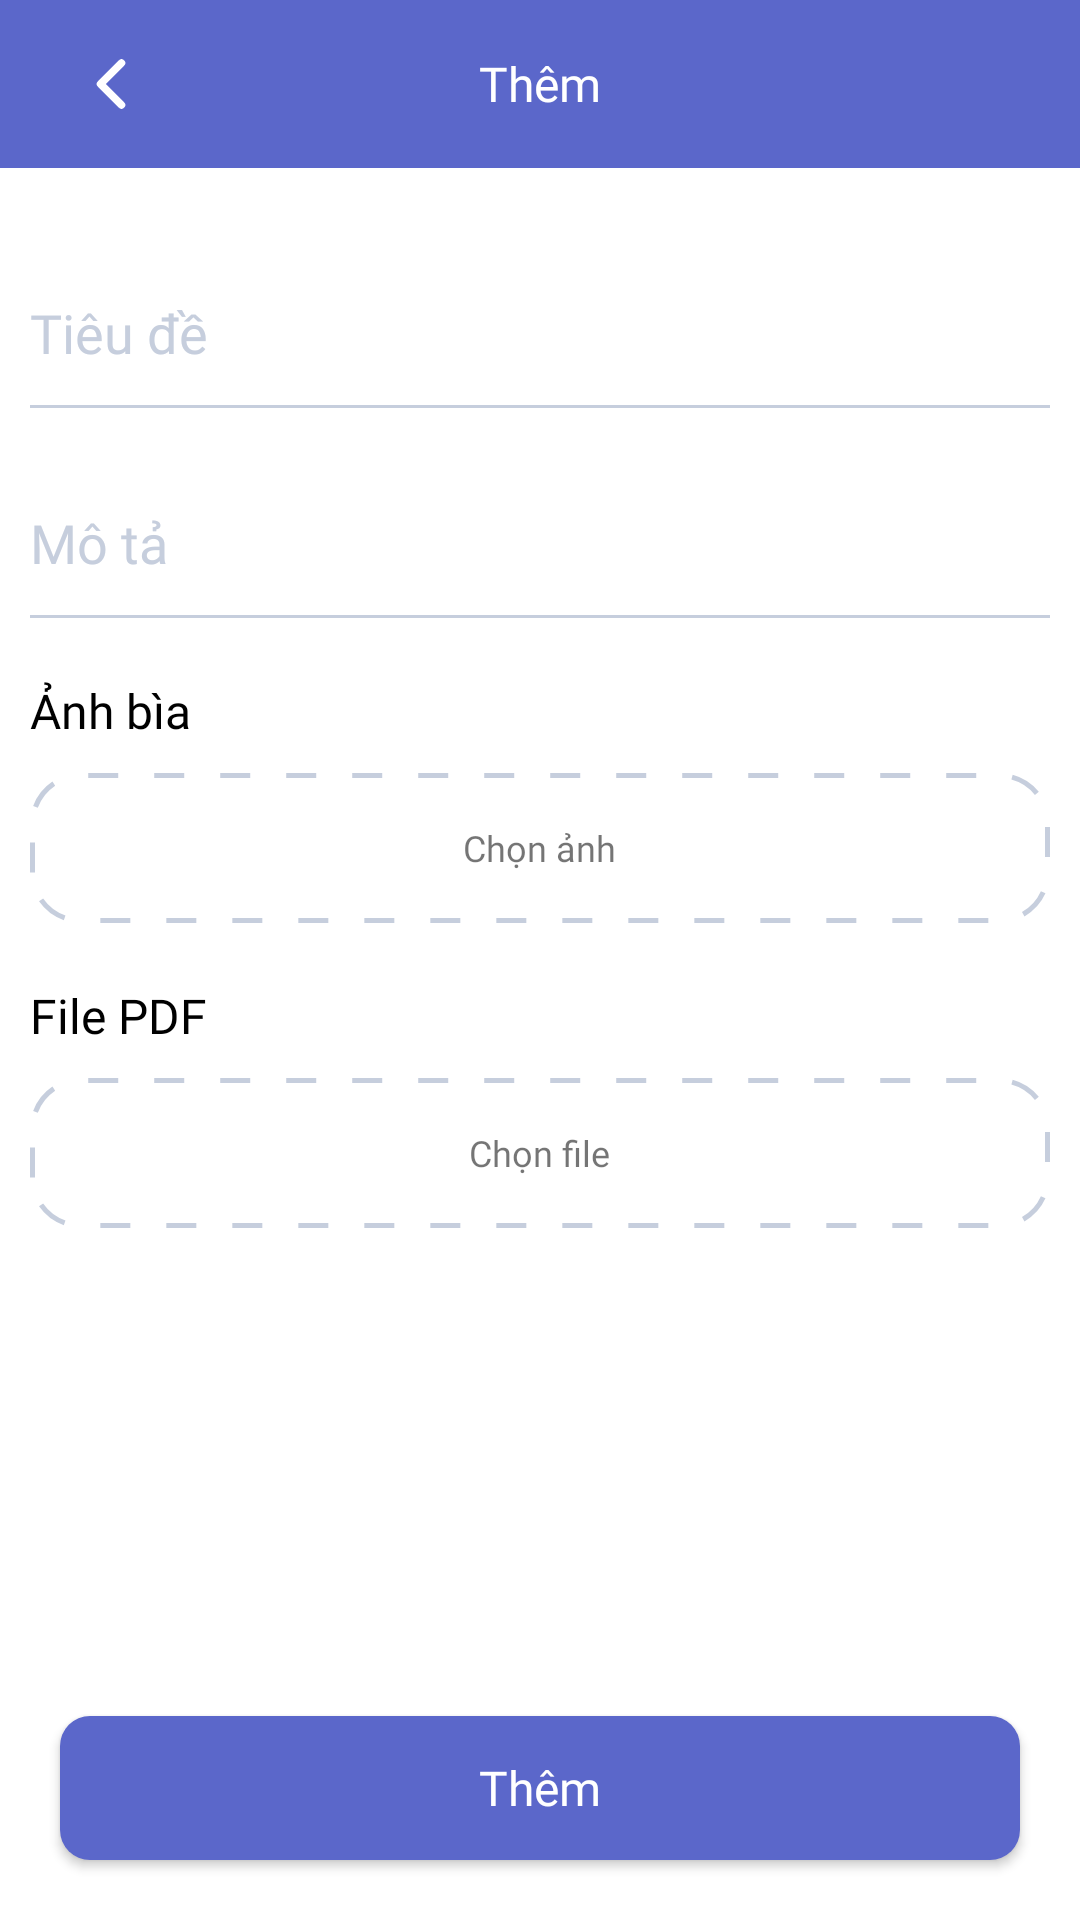

Where icons sit on this 1080*1920 app screen, as (x1, y1, x2, y2):
btnback: (96, 59, 126, 109)
